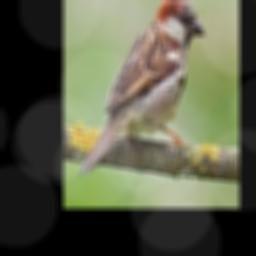Sparrow: (79, 0, 206, 175)
